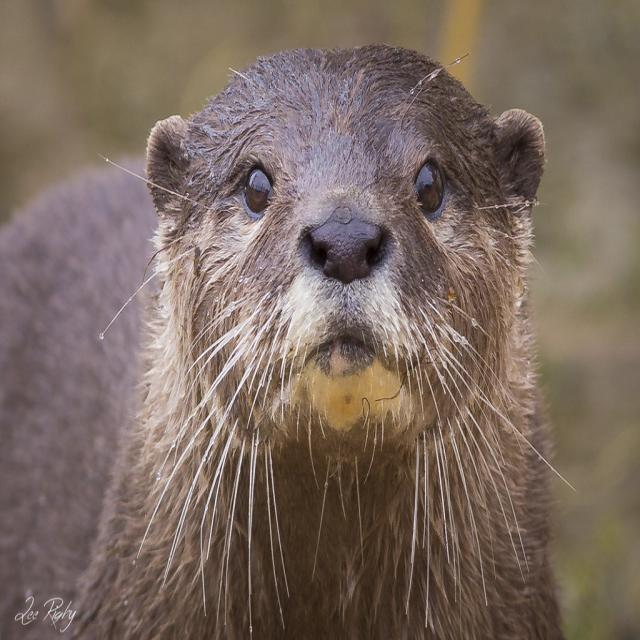otter: (147, 48, 547, 467)
